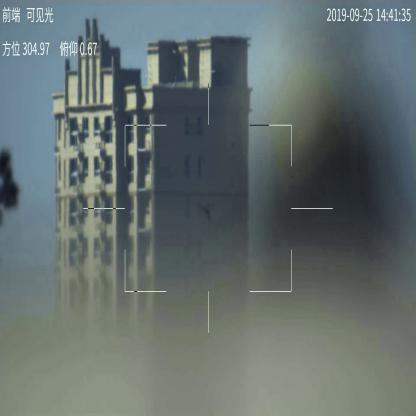uav: (198, 201, 215, 220)
